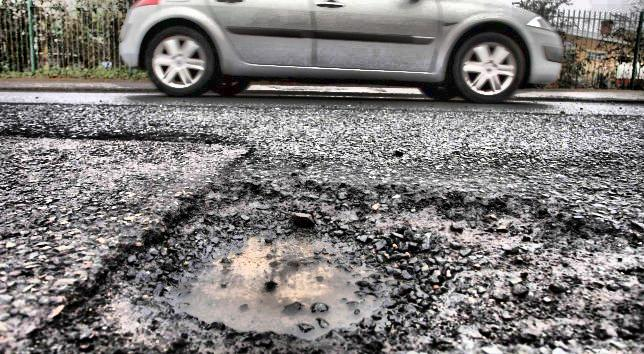pothole: (46, 178, 592, 354)
